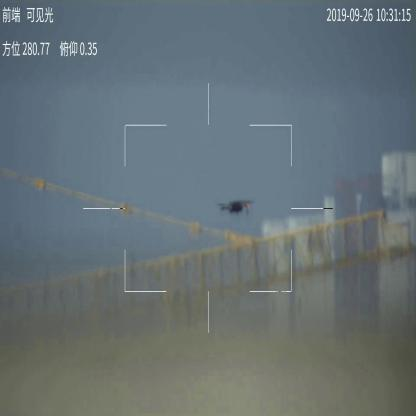uav: (216, 197, 254, 215)
